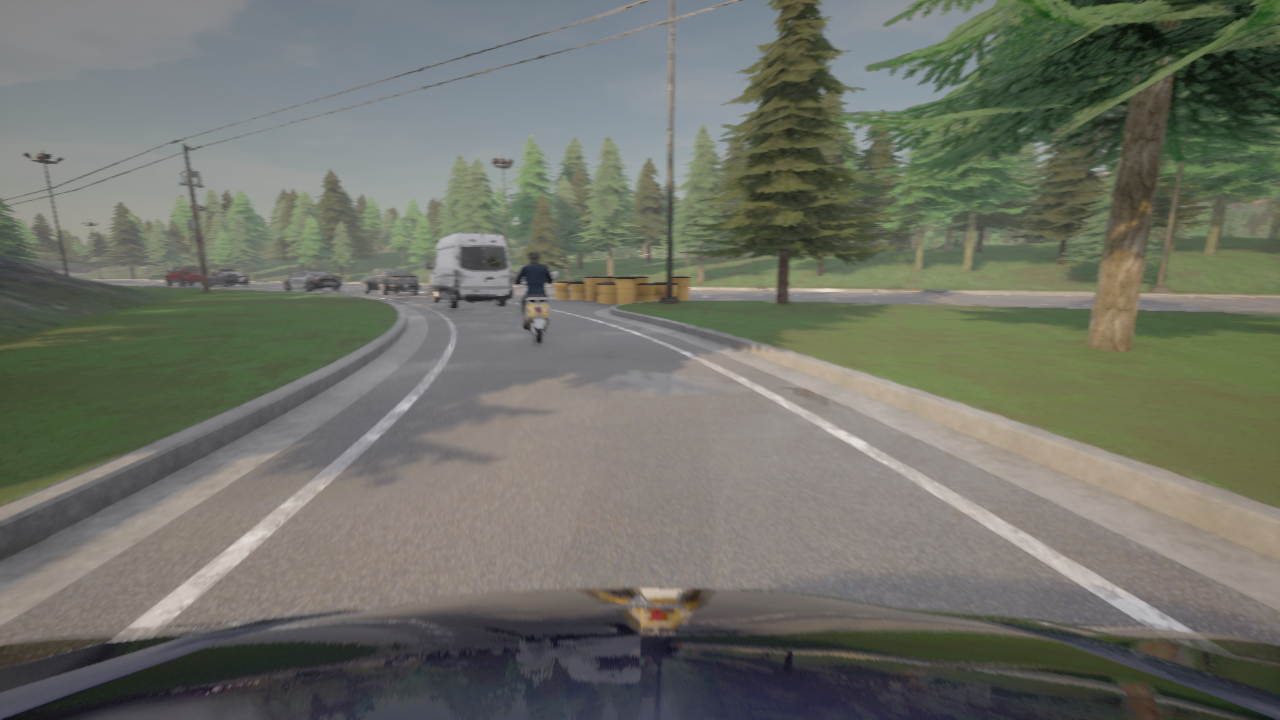cyclist: (0, 588, 1279, 719), (426, 233, 512, 308), (510, 272, 557, 344), (362, 268, 419, 295), (283, 269, 341, 291), (165, 266, 202, 285), (208, 269, 249, 286)
